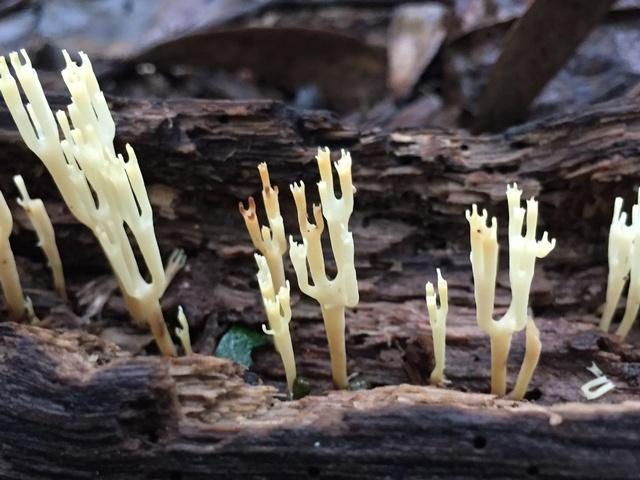Edible Mushroom: (0, 46, 190, 356), (237, 144, 361, 398), (463, 180, 556, 399), (237, 159, 298, 398), (598, 187, 639, 340), (423, 266, 451, 386)
